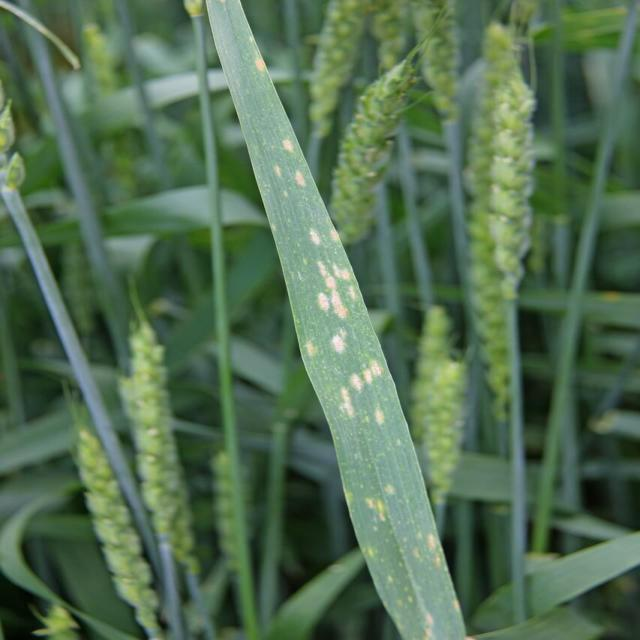Powdery Mildew: (277, 224, 400, 485)
